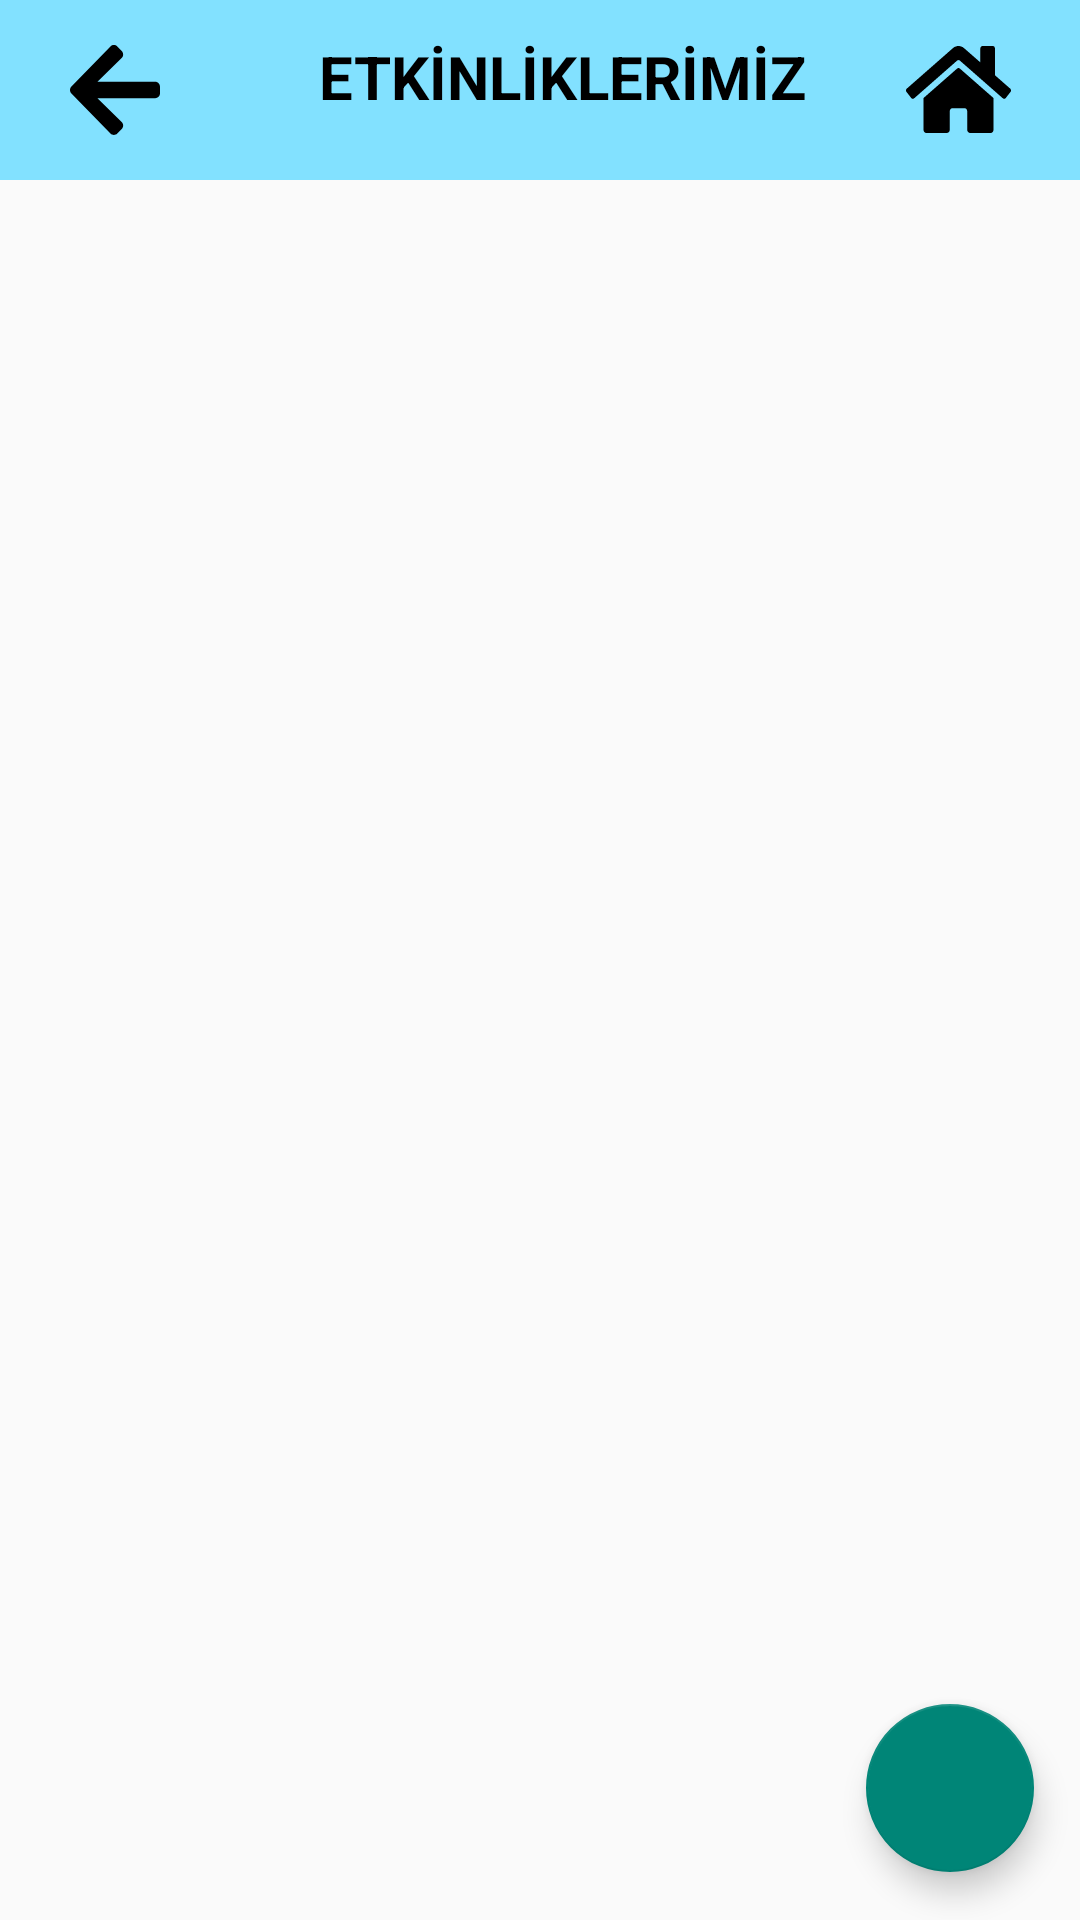

Where to tap for icons on this 1080×1920 app screen, as (x=x, y=y):
back: (x=115, y=90)
home: (x=958, y=89)
